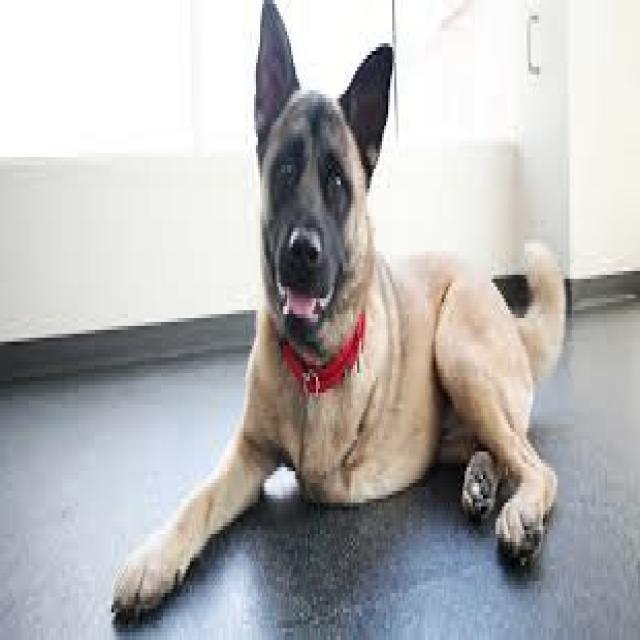dog: (114, 0, 566, 609)
